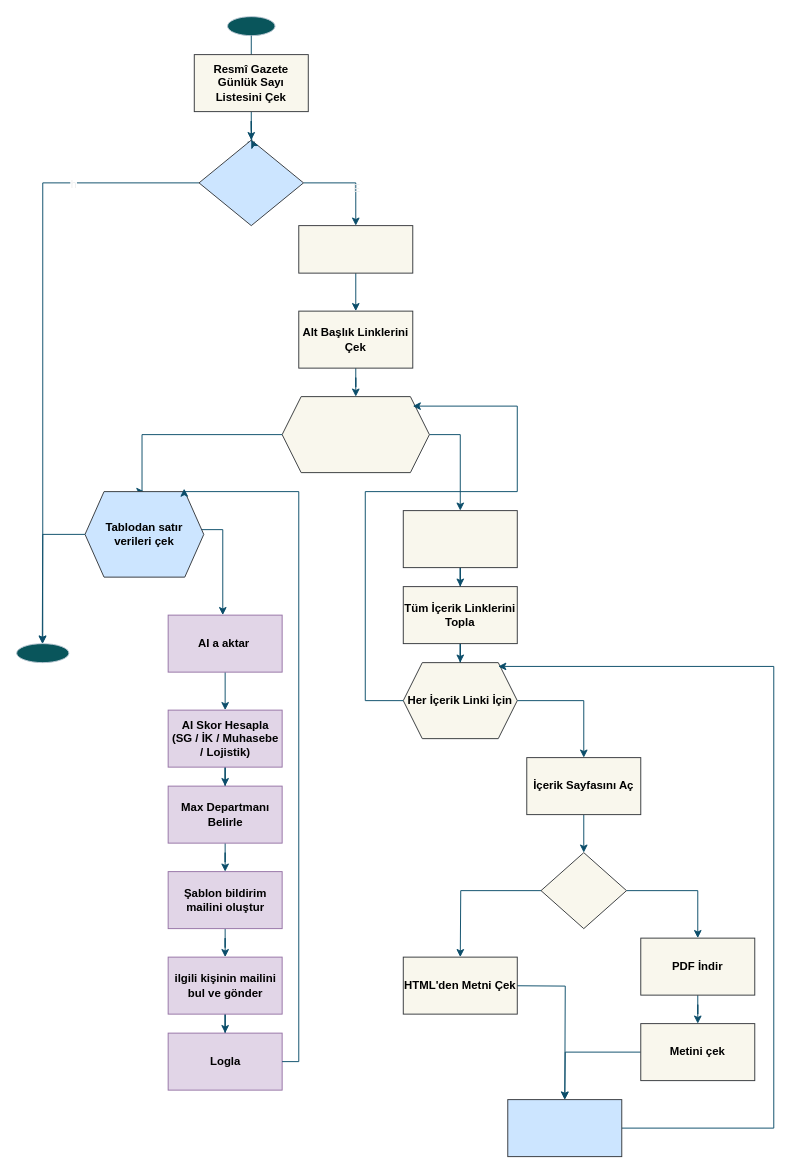
Some shapes in this 798 by 1173 pixel diagram are drawn without their labels. The box of each missing label's shape, as (x1, y1, x2, y2) in pixels:
Alt Başlık Sayfasını Aç: (402, 510, 517, 568)
Bölüm Başlıklarını Parse Et: (298, 225, 413, 273)
DB'de var mı?: (198, 139, 304, 226)
Her Alt Başlık İçin: (281, 396, 429, 473)
PDF mi: (540, 852, 627, 929)
SON: (16, 643, 69, 663)
Start: (227, 16, 275, 36)
Tabloya Kaydet: (507, 1099, 622, 1157)
